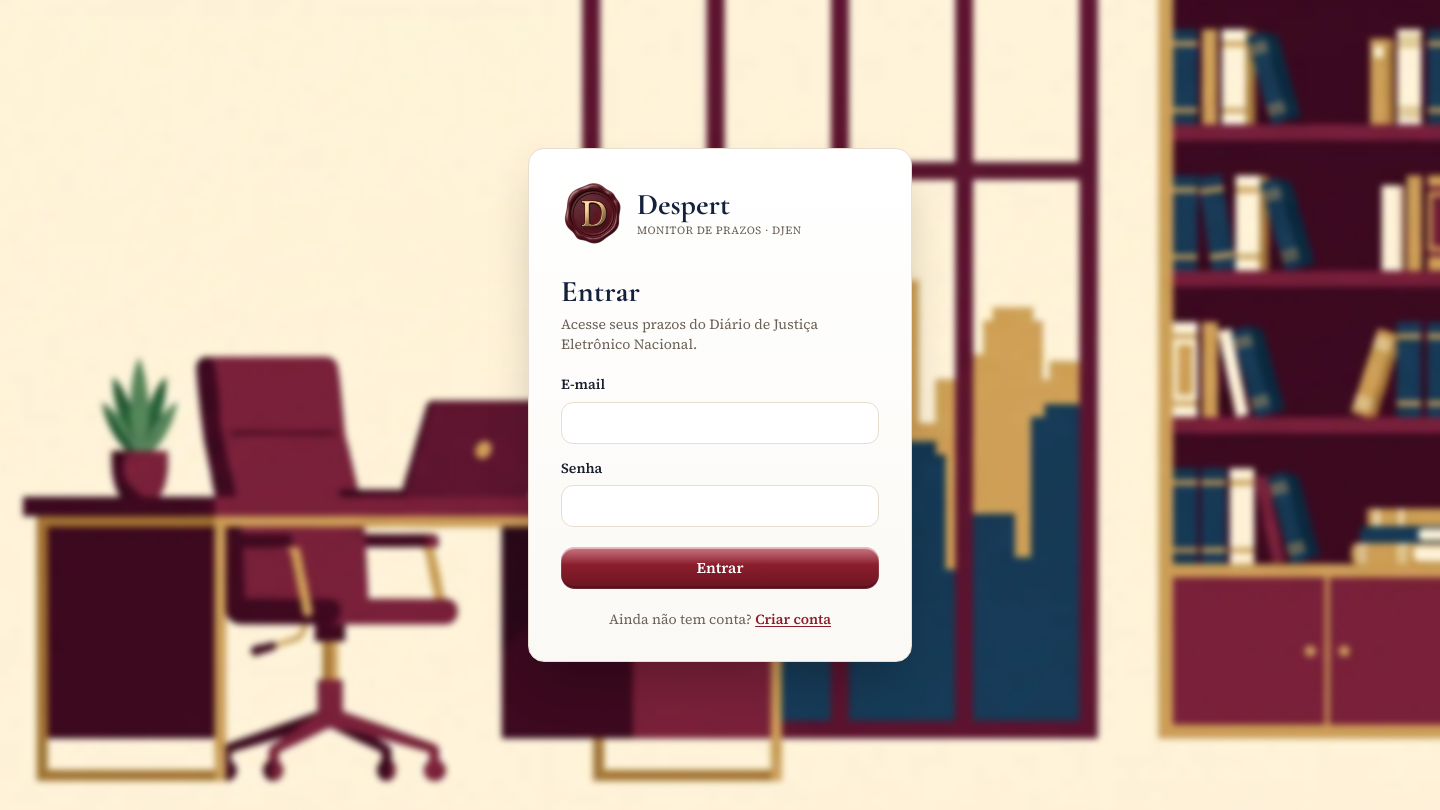
Test: acesso à aplicação › cadastro com confirmação pendente orienta a conferir o e-mail
Click the button "Criar conta" at (793, 619), box left=755, top=609, right=831, bottom=629
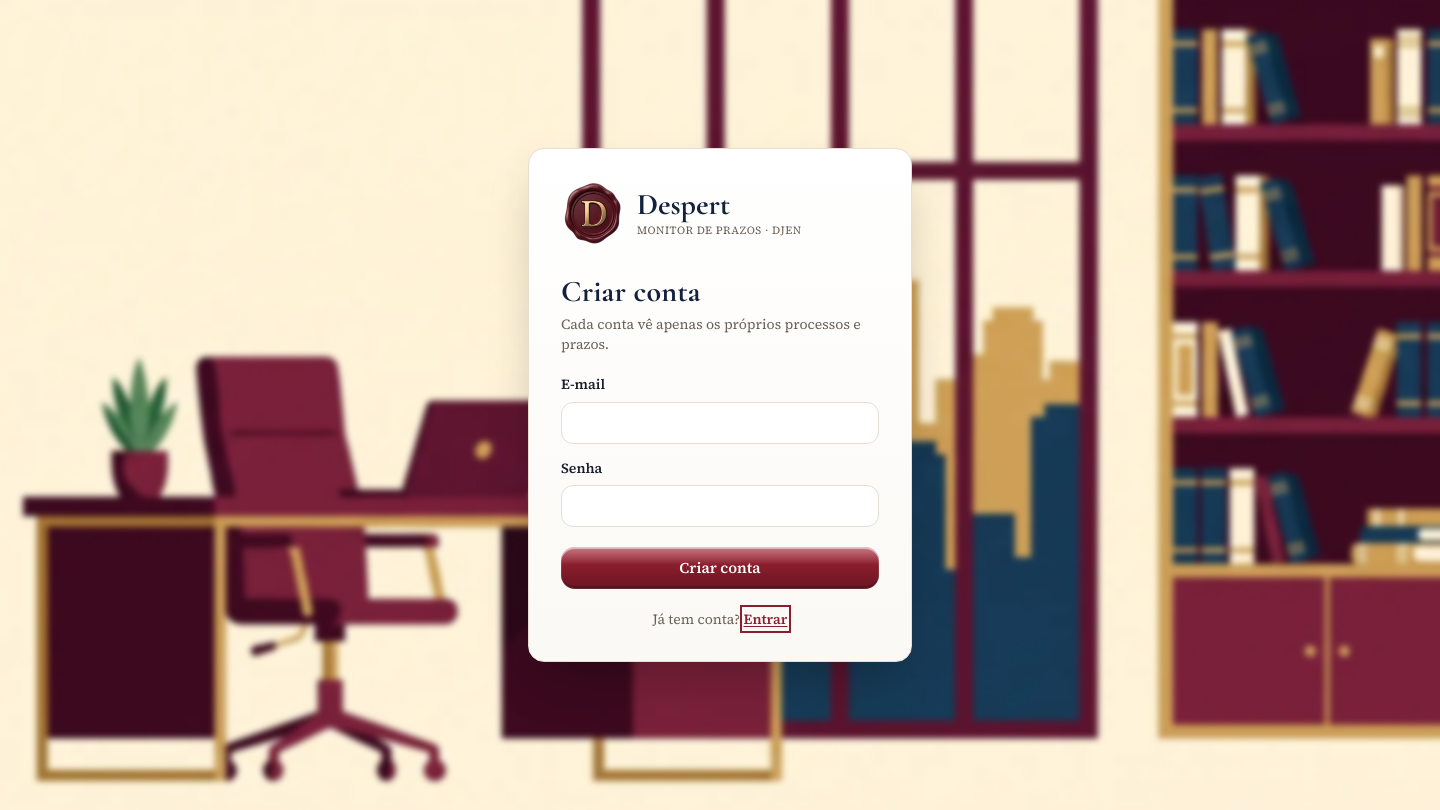
Type "nova@exemplo.com" into the field labelled "E-mail" at (720, 423), box left=561, top=402, right=879, bottom=444
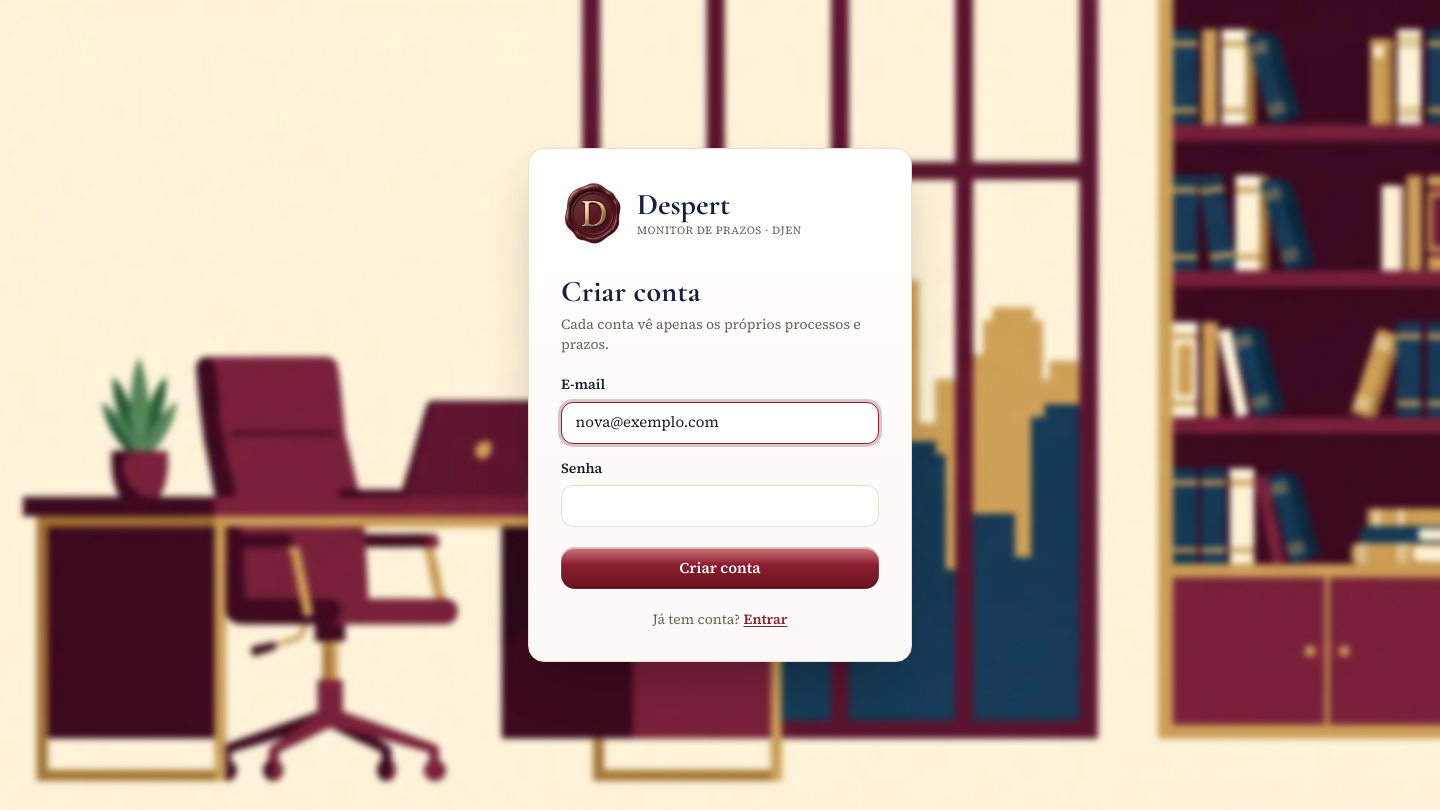
Type "senhaforte1" into the password field labelled "Senha" at (720, 506), box left=561, top=485, right=879, bottom=527
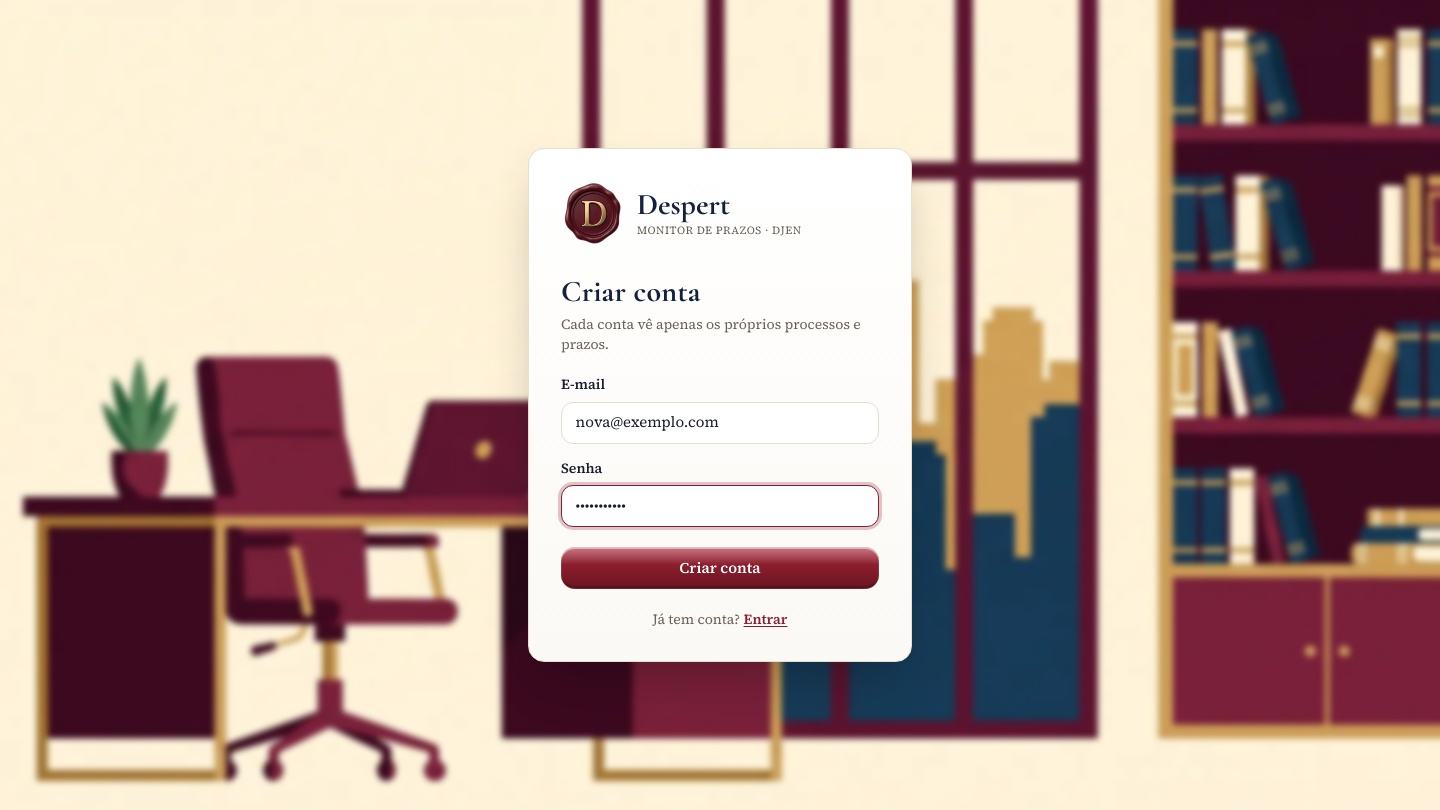
Click the button "Criar conta" at (720, 568), box left=561, top=547, right=879, bottom=589
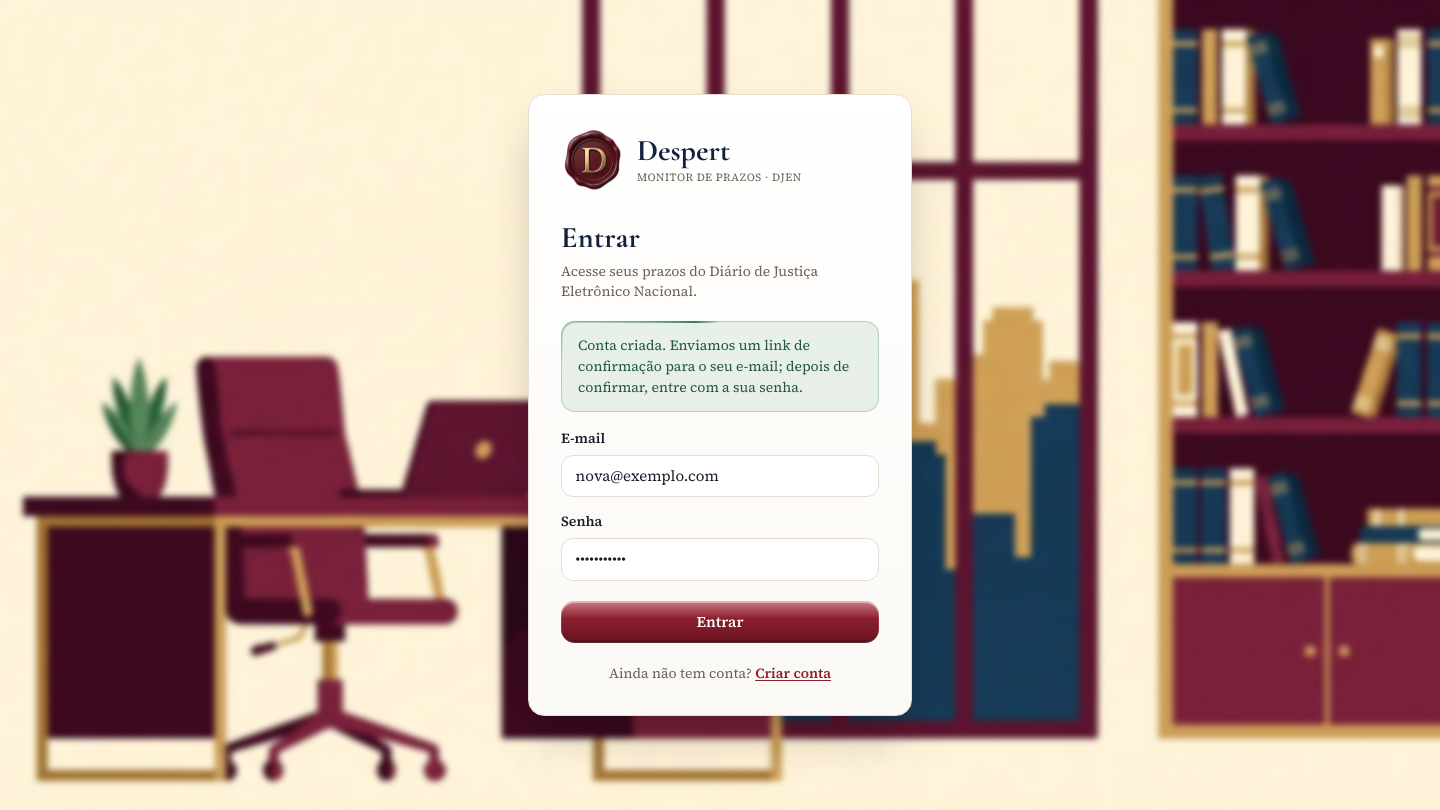
Expected: the text "Enviamos um link de confirmação" is shown, left=578, top=335, right=849, bottom=397
